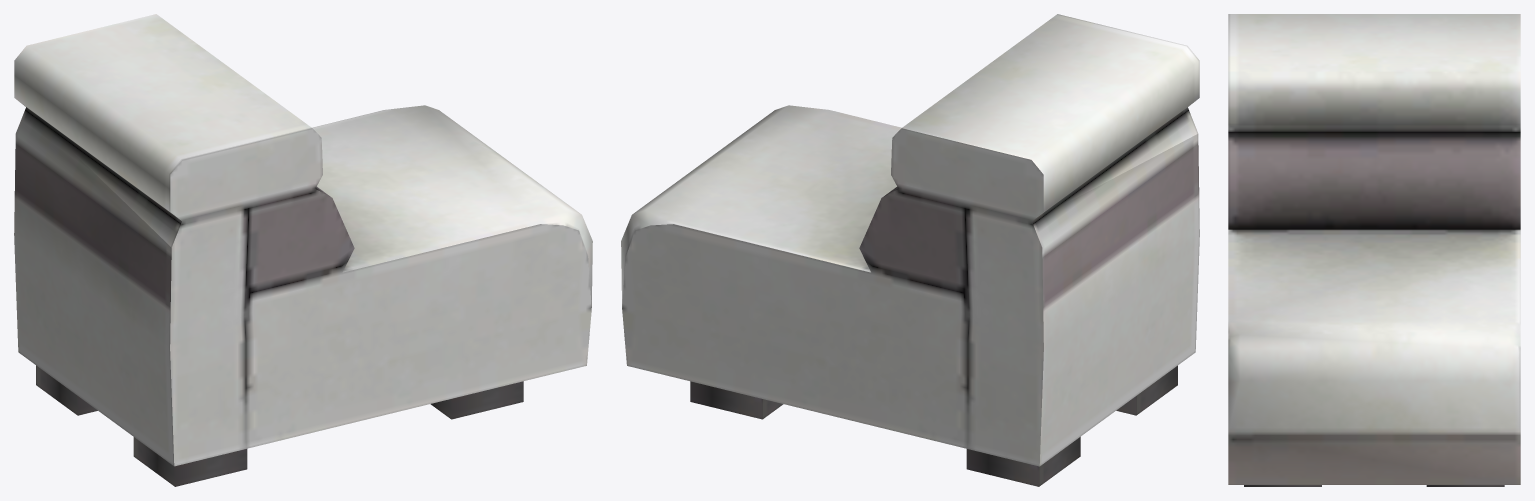
The model's file is Couch05_A.FBX.
3 views of the same model, side by side, from view 1: azimuth 30°, elevation 25°; view 2: azimuth 150°, elevation 25°; view 3: azimuth 270°, elevation 25° (orthographic). The views are drawn at different scales.
Visible parts, largest first — view 1: Couch05_A; view 2: Couch05_A; view 3: Couch05_A.
Part boxes in pixels (bbox=[...]): Couch05_A: bbox=[14, 14, 592, 486]; Couch05_A: bbox=[621, 14, 1199, 486]; Couch05_A: bbox=[1228, 14, 1520, 486].
Size of the model in its own units: 1.11 by 0.826 by 0.7.
